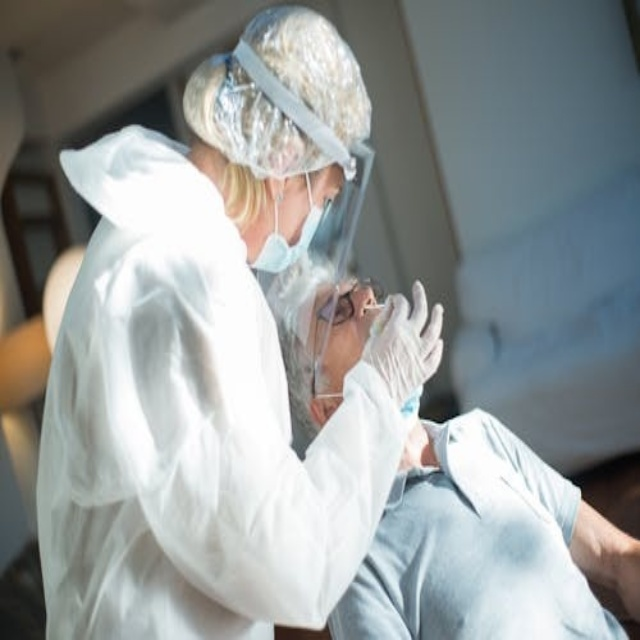Gafas: (303, 263, 384, 377)
Guantes: (369, 280, 451, 399)
Mascara: (247, 174, 335, 280)
Sin_gafas: (312, 172, 351, 211)
